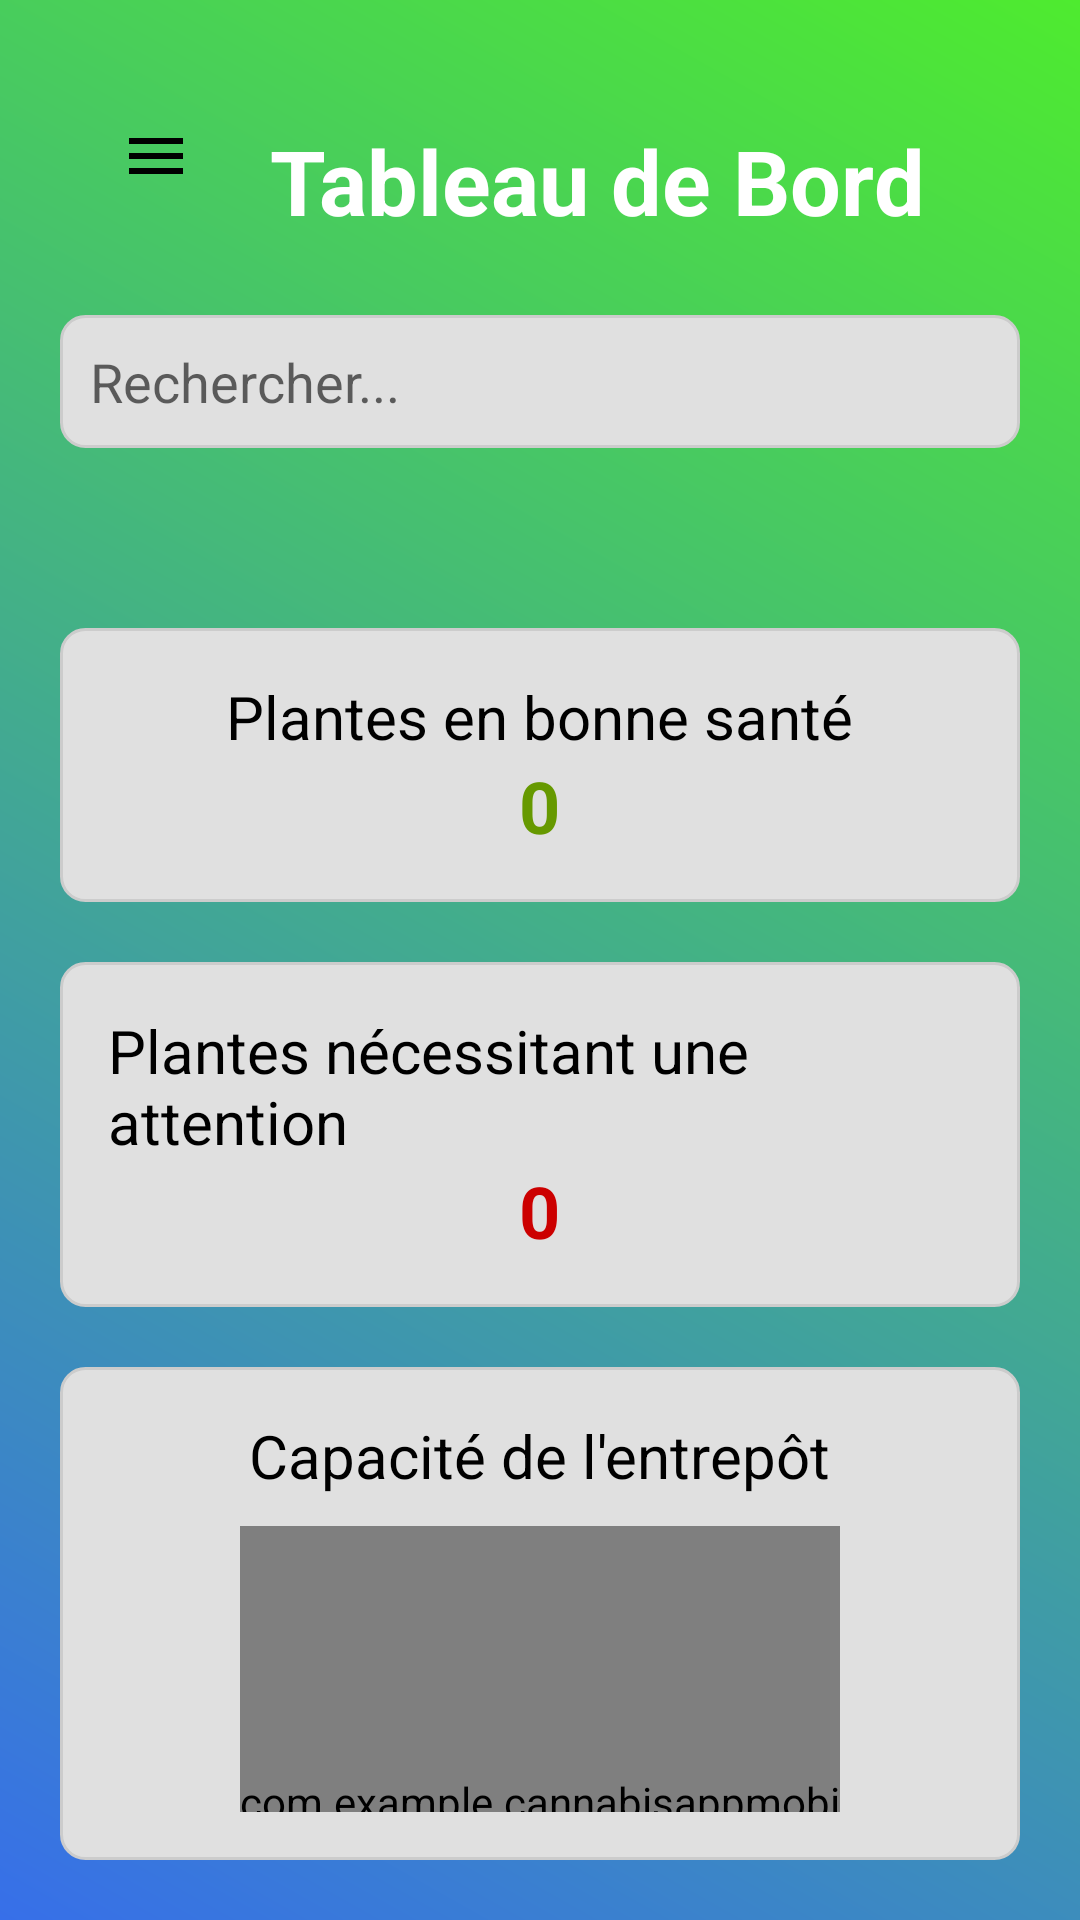

Screen size 1080px×1920px. Icon name, then its center in pixels as (x,y):
Menu: (156,156)
